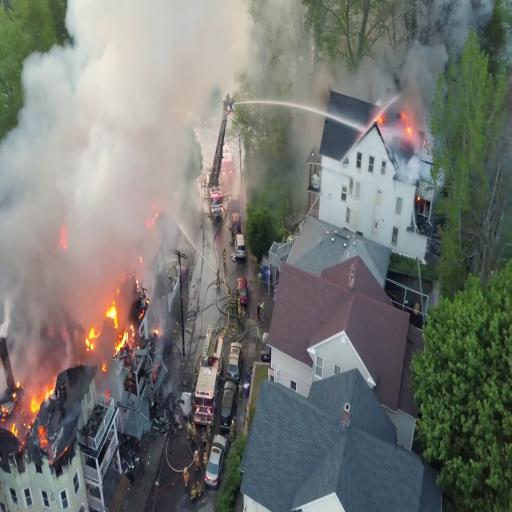smoke: (36, 92, 152, 254)
